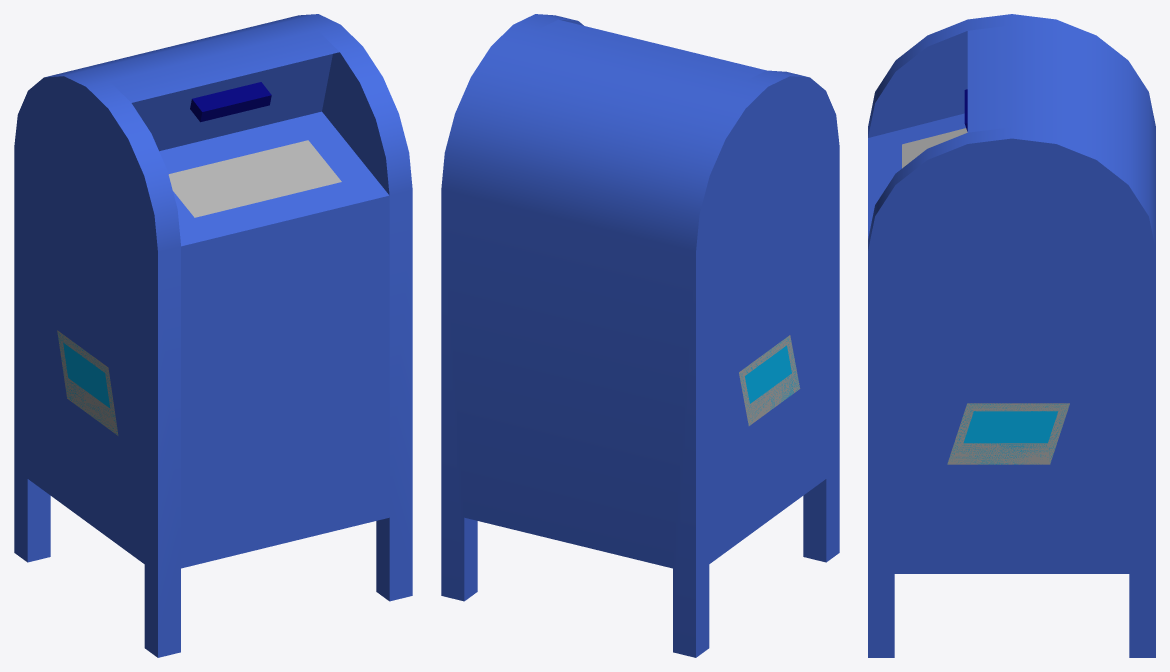
The model's file is mailbox.dae.
The picture shows the model from 3 angles, left to right: view 1: azimuth 30°, elevation 25°; view 2: azimuth 150°, elevation 25°; view 3: azimuth 270°, elevation 25°; orthographic projection.
Visible parts, largest first — view 1: MailBoxArc (×2), MailBoxMid, MailBoxBigDoor, MailBoxSide, MailBoxSlot, MailBoxInstruct, MailBoxIcon (×2), Handle; view 2: MailBoxMid, MailBoxArc (×2), MailBoxSide, MailBoxIcon (×2); view 3: MailBoxSide, MailBoxArc (×2), MailBoxMid, MailBoxIcon (×2), MailBoxInstruct.
Boxes of the visible parts, x1=… form: MailBoxArc (×2): x1=14, y1=14, x2=412, y2=657; MailBoxMid: x1=68, y1=19, x2=389, y2=568; MailBoxBigDoor: x1=192, y1=275, x2=377, y2=553; MailBoxSide: x1=27, y1=99, x2=144, y2=563; MailBoxSlot: x1=131, y1=54, x2=332, y2=151; MailBoxInstruct: x1=168, y1=140, x2=341, y2=217; MailBoxIcon (×2): x1=57, y1=330, x2=118, y2=435; Handle: x1=190, y1=82, x2=271, y2=122; MailBoxMid: x1=464, y1=19, x2=766, y2=568; MailBoxArc (×2): x1=441, y1=14, x2=839, y2=657; MailBoxSide: x1=709, y1=99, x2=826, y2=563; MailBoxIcon (×2): x1=739, y1=335, x2=800, y2=425; MailBoxSide: x1=894, y1=160, x2=1129, y2=573; MailBoxArc (×2): x1=868, y1=14, x2=1155, y2=657; MailBoxMid: x1=868, y1=25, x2=1155, y2=238; MailBoxIcon (×2): x1=947, y1=403, x2=1069, y2=464; MailBoxInstruct: x1=902, y1=128, x2=967, y2=168.
Size of the model in its own units: 22 by 21.5 by 42.79.
